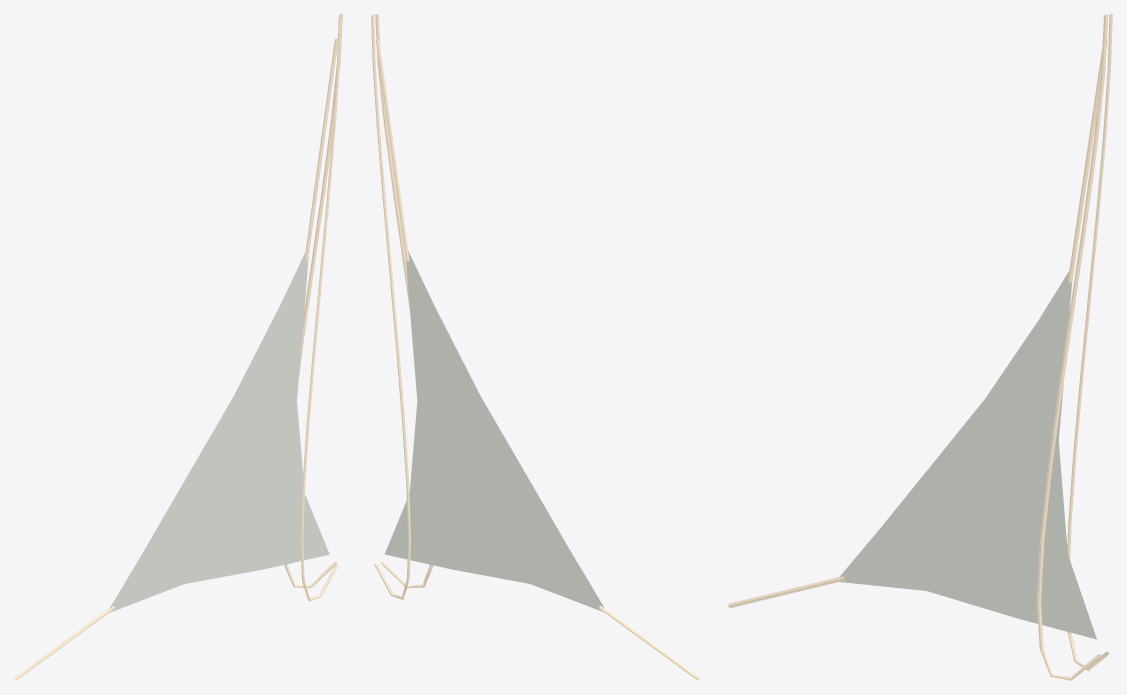
Rendered from sailfront.glb.
3 views of the same model, side by side, from view 1: azimuth 30°, elevation 25°; view 2: azimuth 150°, elevation 25°; view 3: azimuth 330°, elevation 25° (orthographic). The views are drawn at different scales.
Parts seen in each view (by area): view 1: Plane.006, BezierCurve.009, BezierCurve.010, BezierCurve.001, BezierCurve.004; view 2: Plane.006, BezierCurve.010, BezierCurve.009, BezierCurve.001, BezierCurve.004; view 3: Plane.006, BezierCurve.009, BezierCurve.010, BezierCurve.001, BezierCurve.004.
Boxes of the visible parts, x1,y1,x2,y2 form: Plane.006: (109,251,329,612); BezierCurve.009: (300,16,341,601); BezierCurve.010: (284,14,342,588); BezierCurve.001: (305,38,337,261); BezierCurve.004: (14,606,114,680); Plane.006: (384,251,604,611); BezierCurve.010: (371,14,410,599); BezierCurve.009: (375,14,433,588); BezierCurve.001: (375,38,409,261); BezierCurve.004: (598,605,699,680); Plane.006: (839,271,1096,639); BezierCurve.009: (1037,14,1107,680); BezierCurve.010: (1067,14,1112,671); BezierCurve.001: (1068,40,1107,283); BezierCurve.004: (728,576,845,608).
Bounding box in the file's own units: 0.6043 × 1.03 × 0.074.
